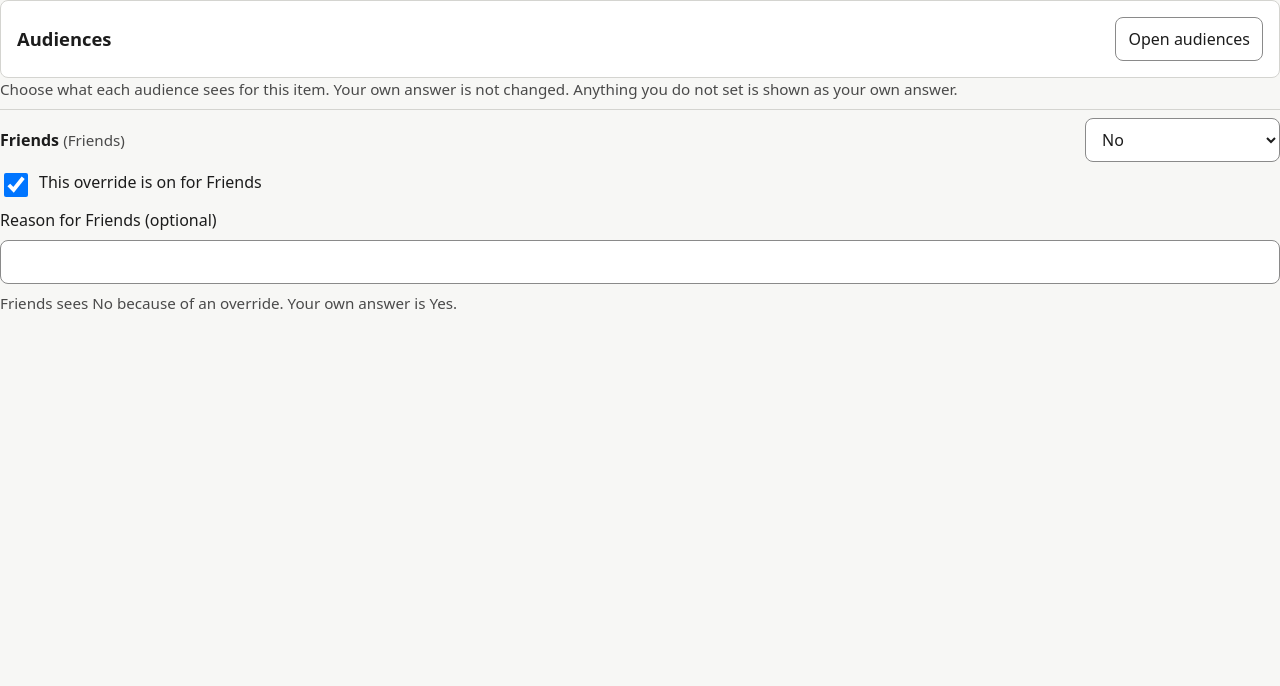
audiences panel (M4-03) › asks before deleting, says how many overrides go, and keeps the answer
What coordinates should you click on to do the following:
click the button "Open audiences"
I would click on:
 (1189, 39)
Its box is [1116,17,1263,61].
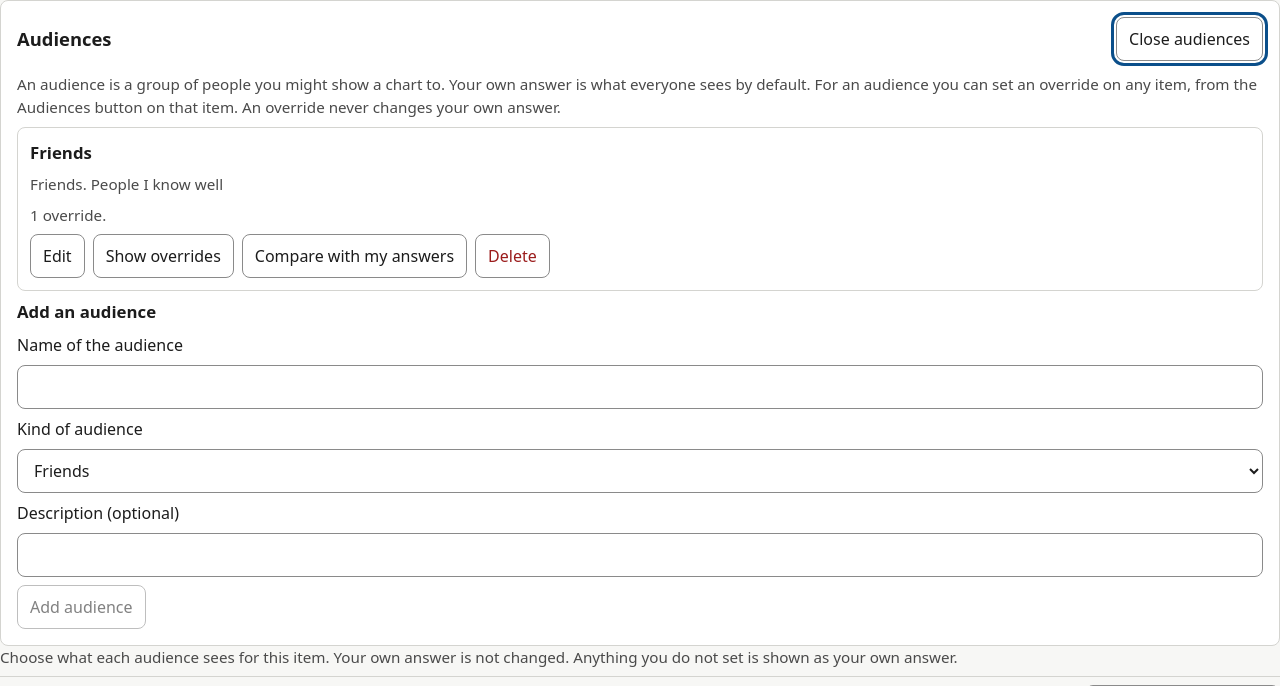
What coordinates should you click on to do the following:
click the button named "Delete Friends"
I would click on:
 (512, 256)
Its box is [475,234,550,278].
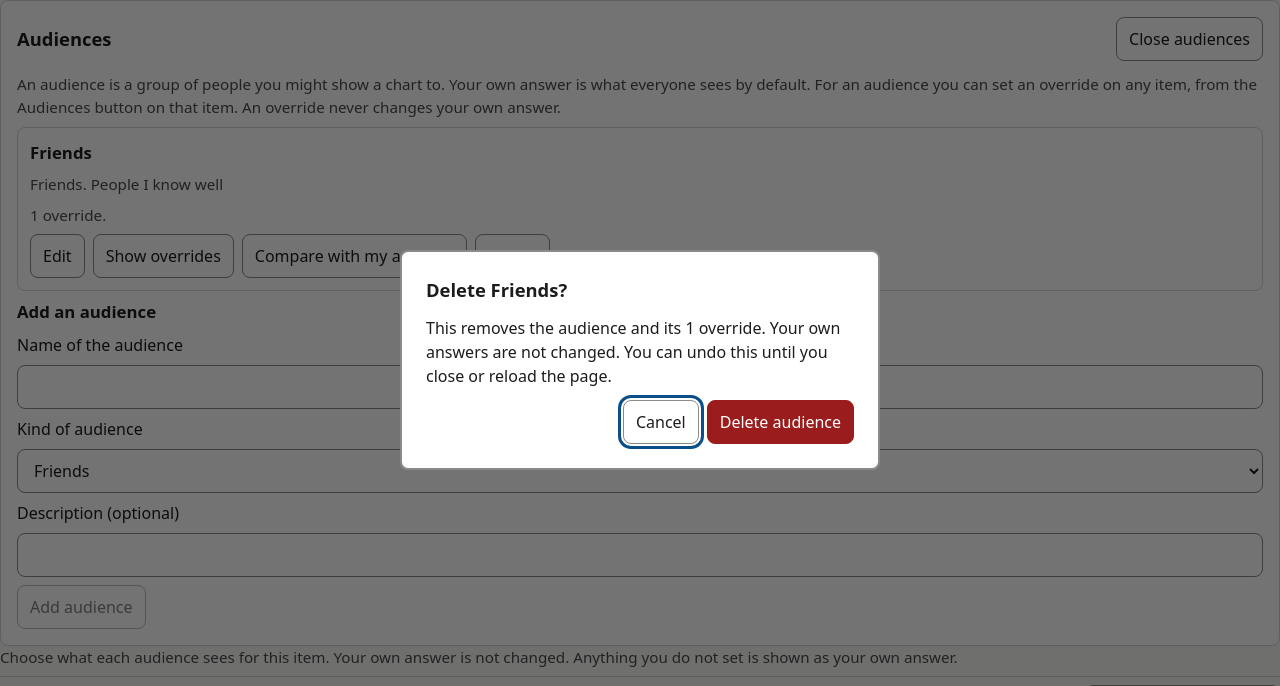
expect the text "its 1 override. Your own answers are not changed" is shown: met, box [426,317,840,387]
What coordinates should you click on to do the following:
click the button "Cancel"
I would click on:
 (661, 422)
Its box is [623,400,699,444].
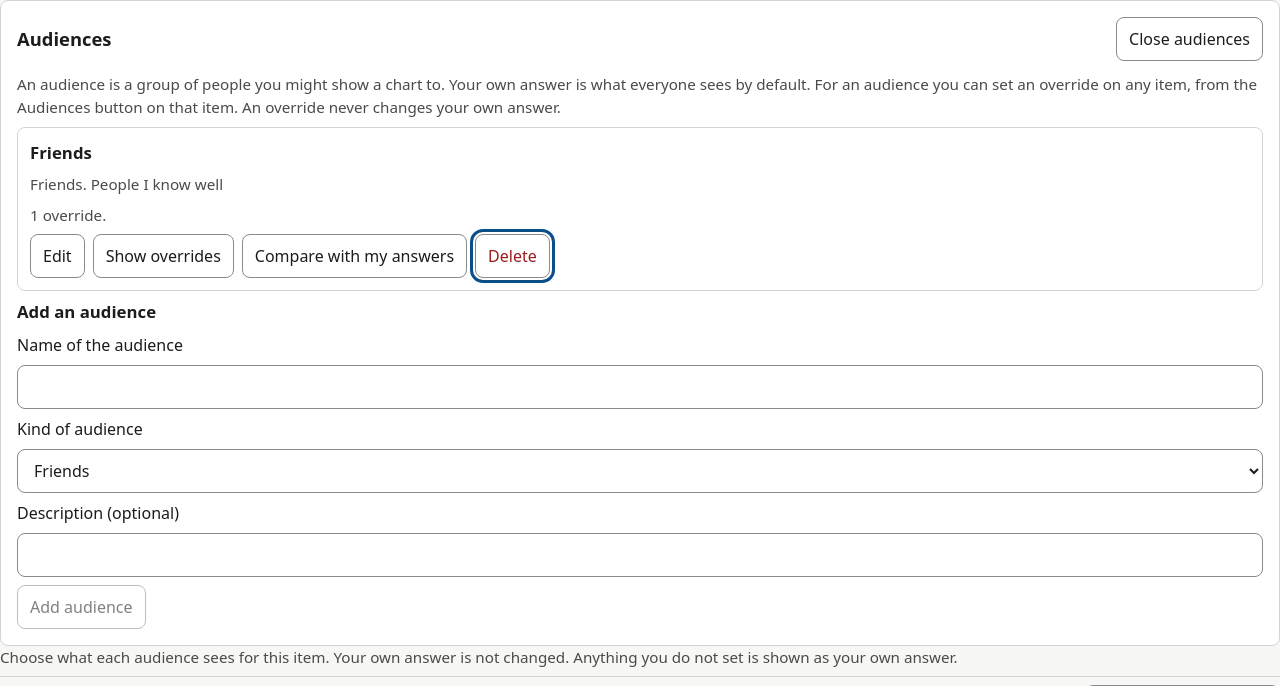
What coordinates should you click on to do the following:
click the button named "Delete Friends"
I would click on:
 (512, 256)
Its box is [475,234,550,278].
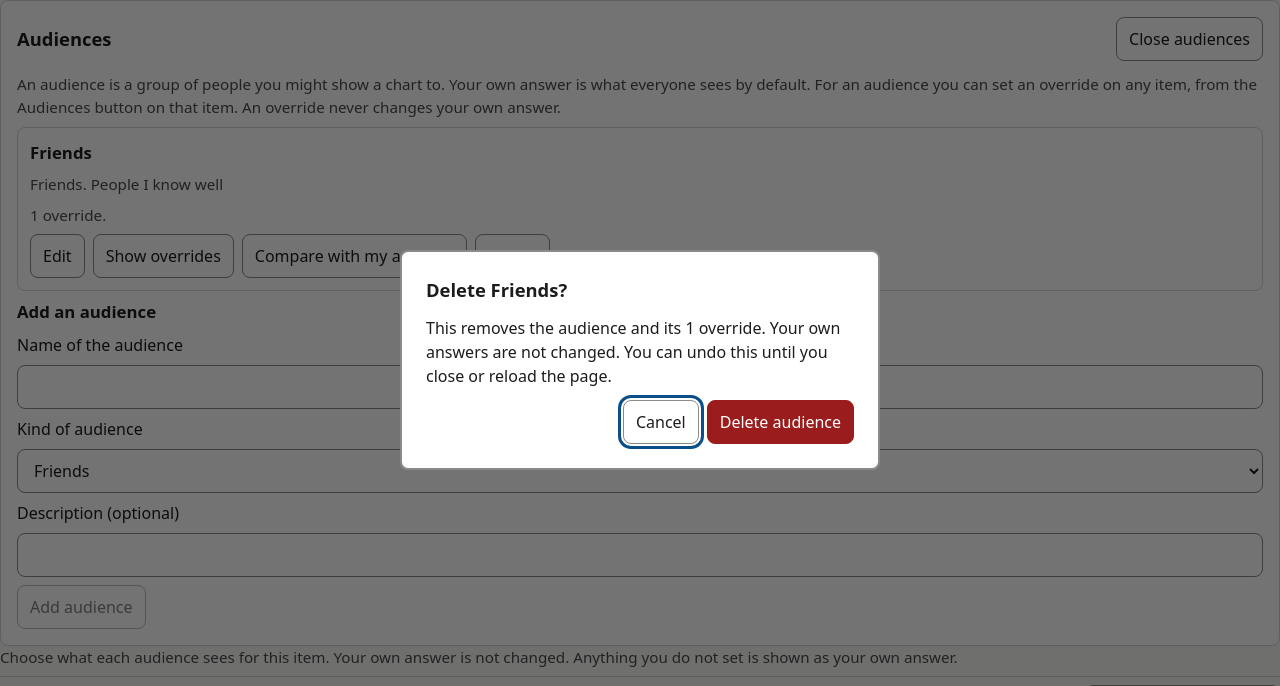
What coordinates should you click on to do the following:
click the button "Delete audience"
I would click on:
 (780, 422)
Its box is [707,400,854,444].
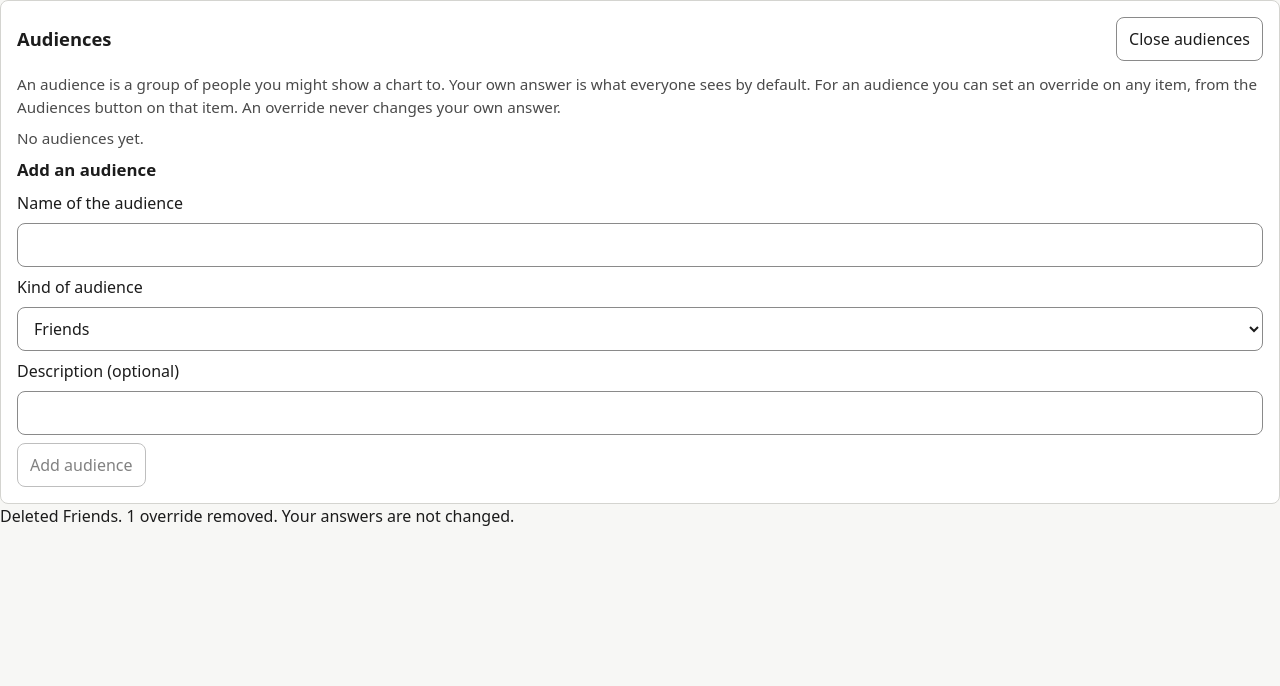
expect the text with test id "said" reads "Deleted Friends. 1 override removed. Your answers are not changed.": met, box [0,505,514,527]
